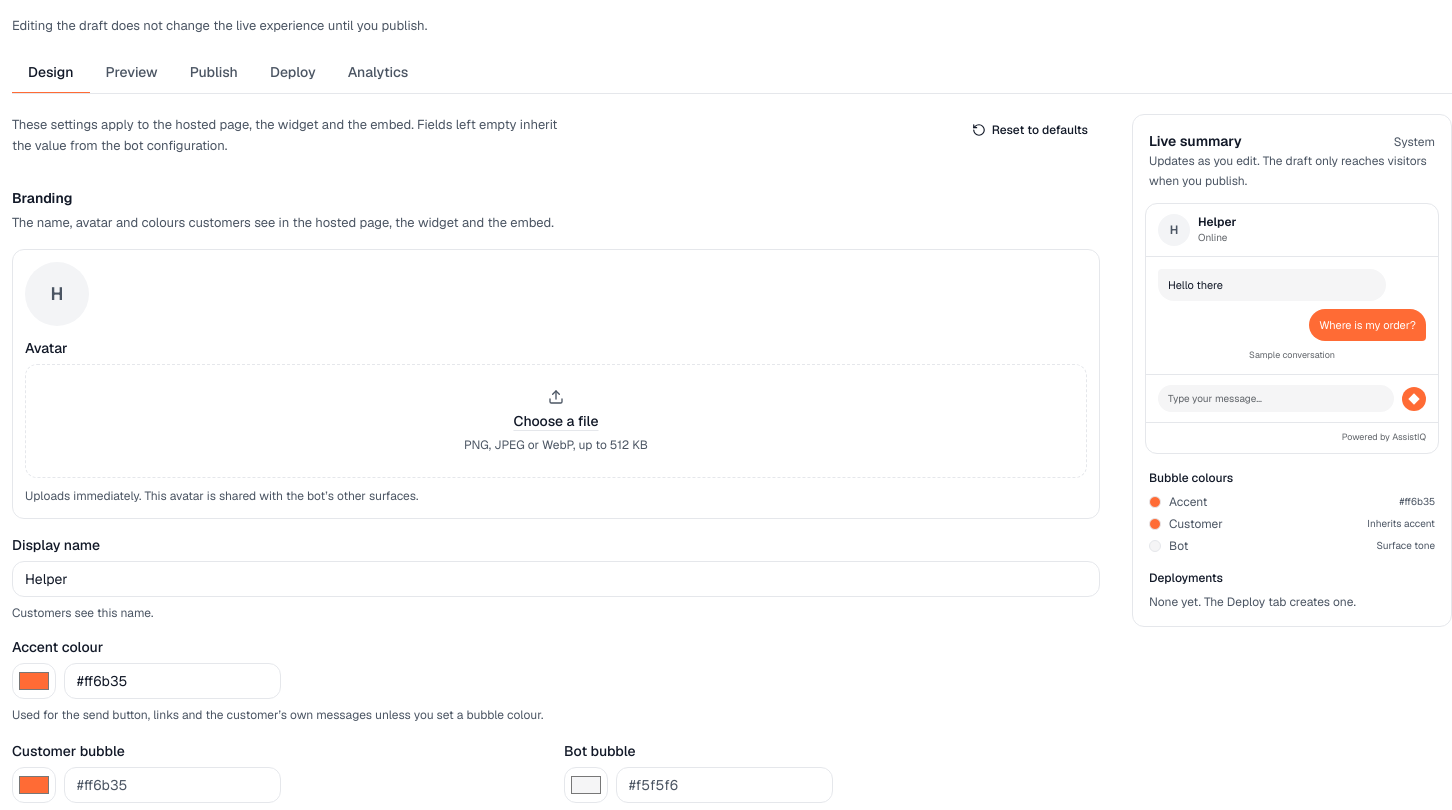
Test: ExperienceStudio › keeps the draft when a save fails for another reason
The image size is (1452, 810).
Step 1. Type "Mine" into the field labelled "Display name" → coordinates (556, 579), box [12,561,1100,597]
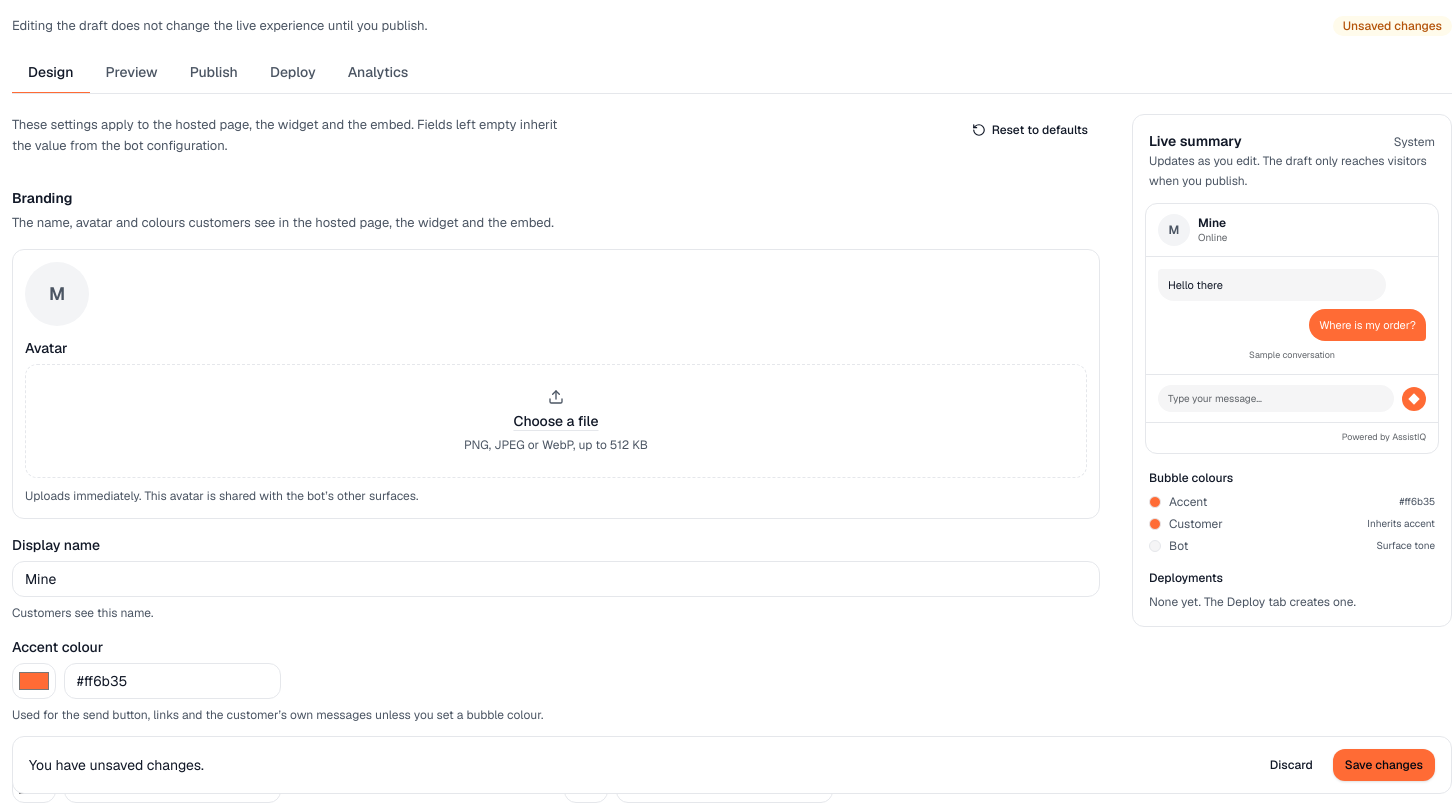
Step 2. Click the button "Save changes" → coordinates (1384, 765), box [1333,749,1435,781]
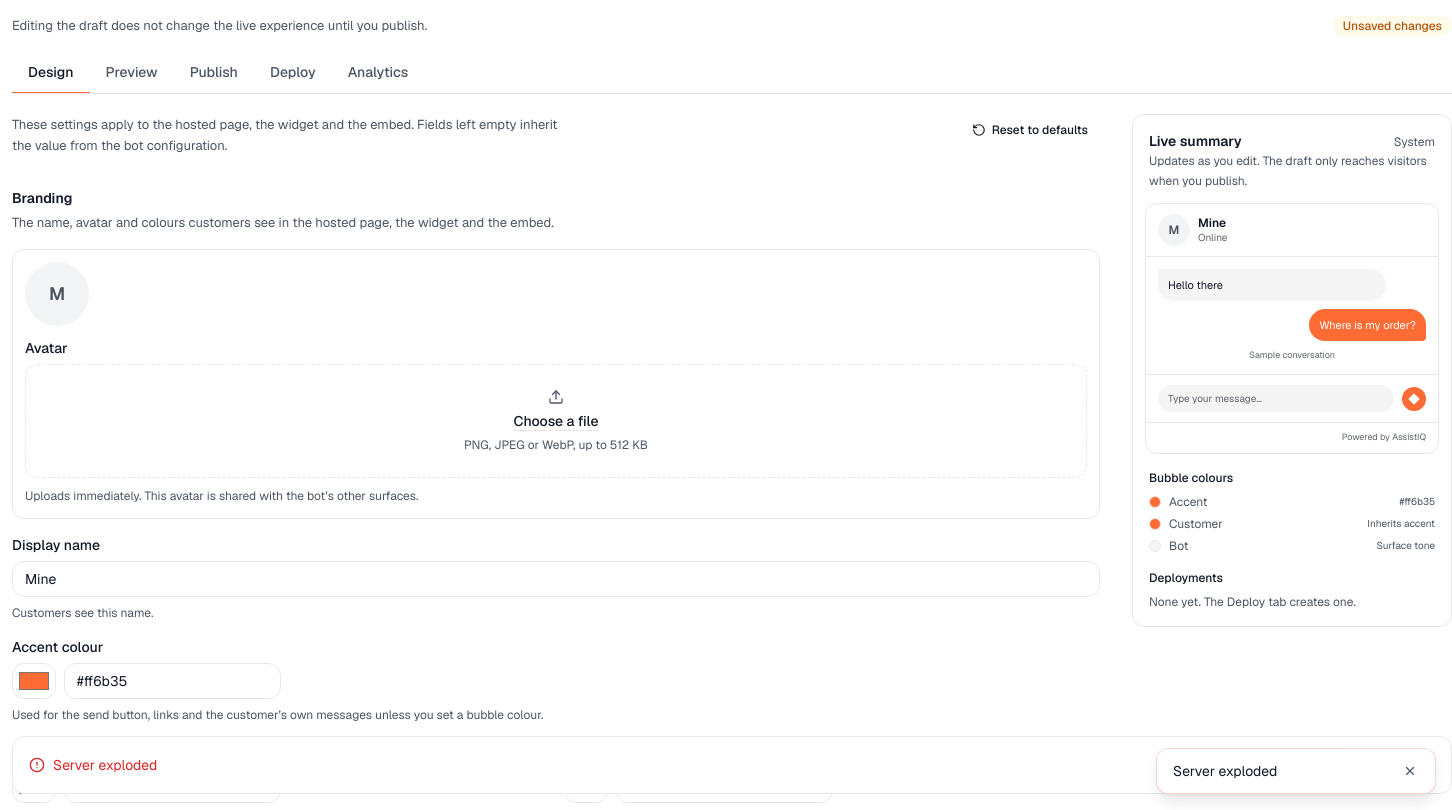
expect the text "Server exploded" next to "Customer bubble" is shown: met, box [53,756,157,774]
